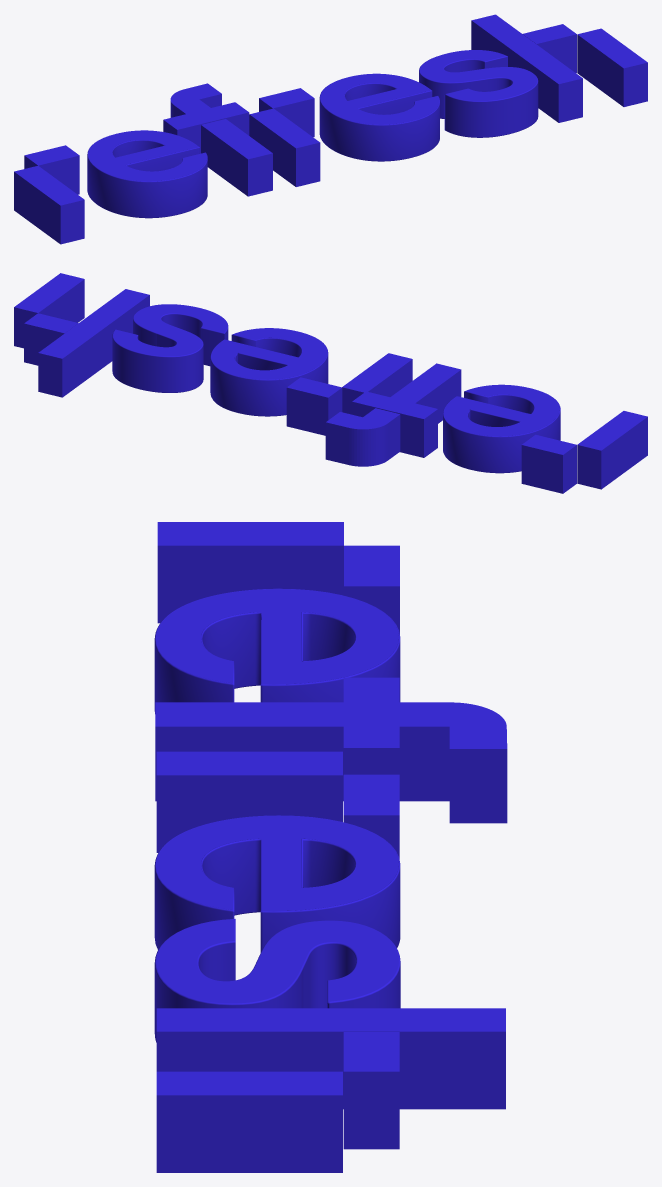
The model's file is Refresh_1.glb.
The picture shows the model from 3 angles, top to bottom: view 1: azimuth 30°, elevation 25°; view 2: azimuth 150°, elevation 25°; view 3: azimuth 270°, elevation 25°; orthographic projection. The views are drawn at different scales.
Visible parts, largest first — view 1: Curve.009, Curve.006, Curve.008, Cube.026, Cube.022, Cube.020, Cube.018, Cube.023, Cube.025, Cube.019, Cube.024, Cube.021; view 2: Curve.009, Curve.006, Curve.008, Cube.026, Cube.022, Cube.018, Cube.019, Cube.025, Cube.020, Cube.024, Cube.023, Cube.021; view 3: Curve.006, Cube.022, Curve.009, Cube.026, Cube.020, Curve.008, Cube.018, Cube.023, Cube.021, Cube.025, Cube.019, Cube.024.
Boxes of the visible parts, box(x1,y1,x2,y2) form: Curve.009: box(87, 130, 207, 218); Curve.006: box(319, 73, 439, 161); Curve.008: box(419, 50, 538, 137); Cube.026: box(170, 83, 272, 196); Cube.022: box(471, 14, 582, 122); Cube.020: box(577, 28, 647, 106); Cube.018: box(14, 166, 84, 244); Cube.023: box(249, 108, 320, 186); Cube.025: box(163, 102, 249, 153); Cube.019: box(24, 145, 79, 194); Cube.024: box(259, 88, 314, 137); Cube.021: box(523, 24, 576, 73); Curve.009: box(443, 384, 560, 473); Curve.006: box(210, 328, 328, 416); Curve.008: box(112, 304, 228, 392); Cube.026: box(325, 363, 461, 466); Cube.022: box(38, 289, 149, 397); Cube.018: box(577, 411, 647, 489); Cube.019: box(521, 434, 576, 493); Cube.025: box(352, 391, 437, 457); Cube.020: box(14, 273, 84, 348); Cube.024: box(286, 377, 342, 435); Cube.023: box(342, 353, 412, 414); Cube.021: box(24, 313, 78, 365); Curve.006: box(154, 815, 400, 952); Cube.022: box(156, 1008, 505, 1109); Curve.009: box(154, 588, 400, 713); Cube.026: box(155, 702, 507, 823); Cube.020: box(156, 1071, 342, 1172); Curve.008: box(154, 919, 400, 1042); Cube.018: box(157, 522, 343, 623); Cube.023: box(156, 751, 342, 852); Cube.021: box(343, 1032, 399, 1149); Cube.025: box(343, 677, 399, 774); Cube.019: box(344, 545, 399, 633); Cube.024: box(343, 774, 399, 858).
Size of the model in its own units: 7.13 by 0.4719 by 1.85.
